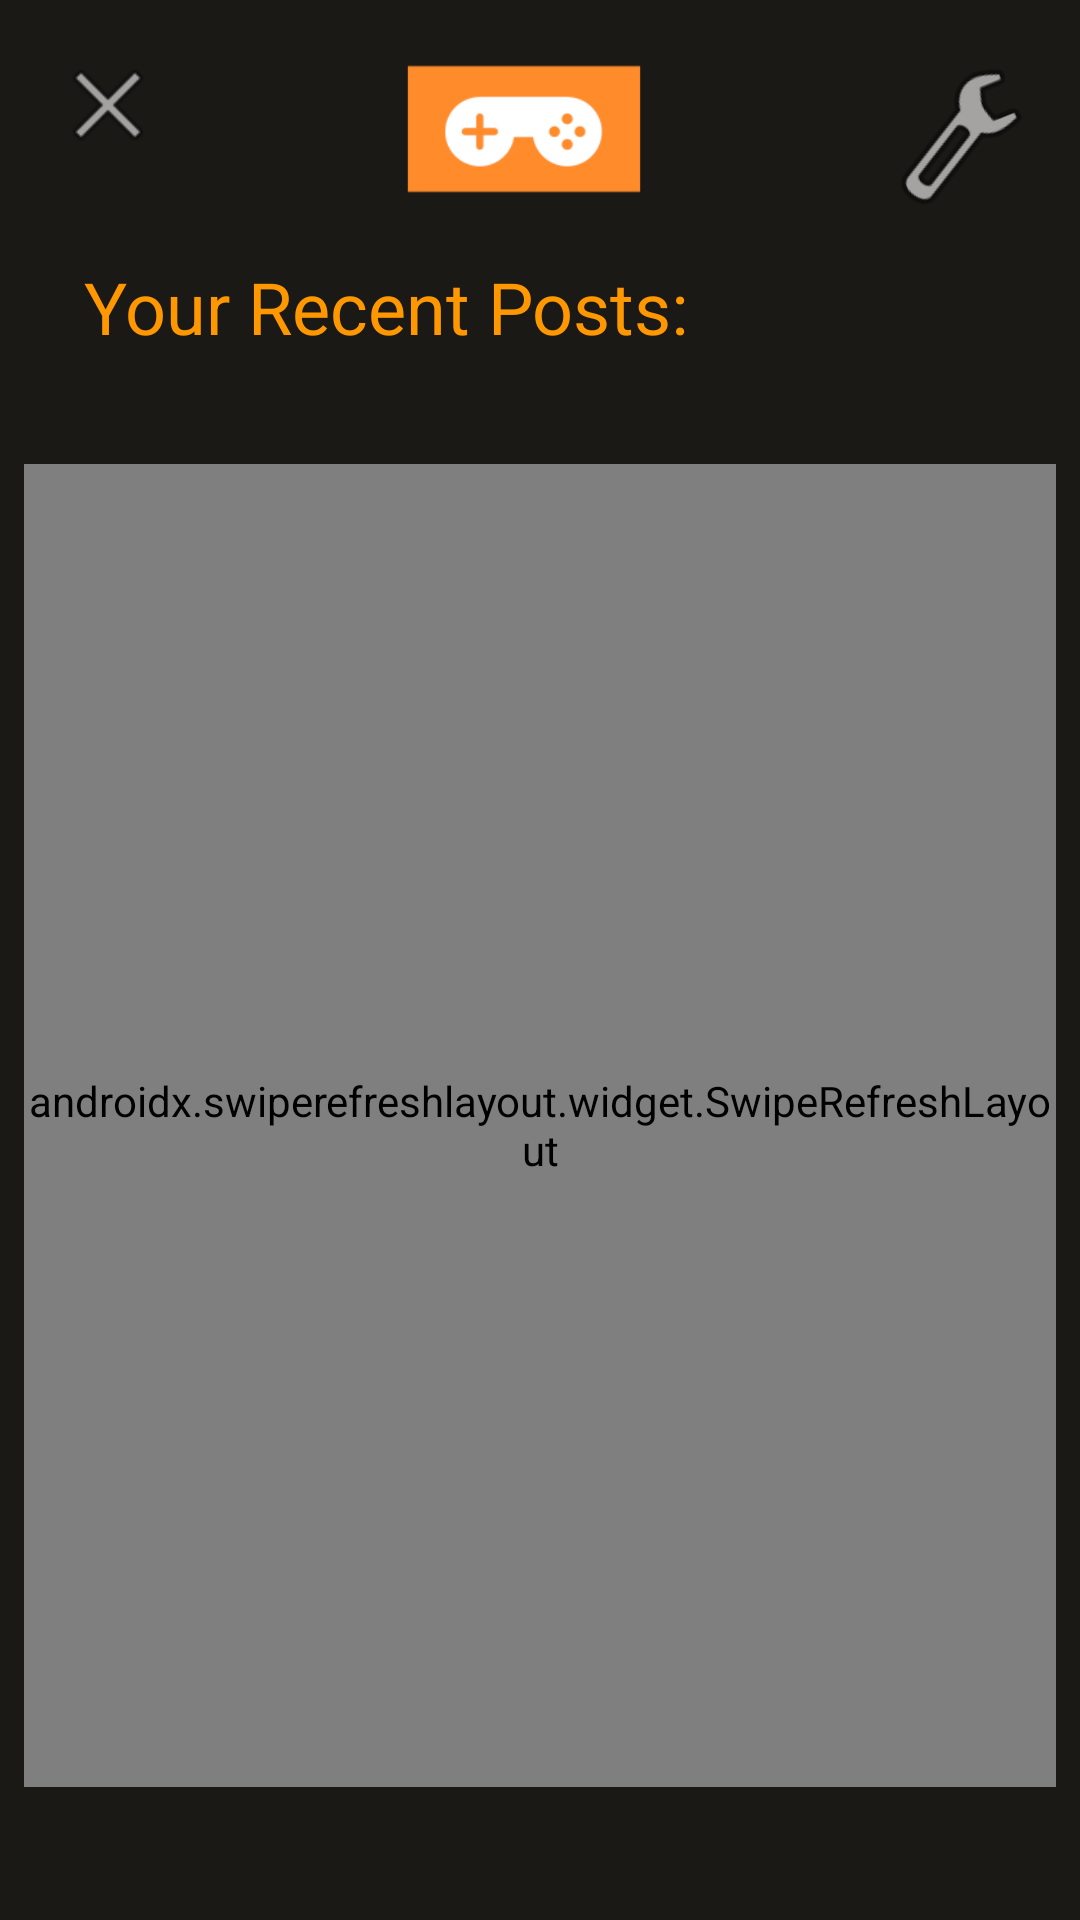

Named icons in this screenshot (1080 x 1920) and their centers, (x=x, y=y):
close clear cancel: (x=108, y=105)
